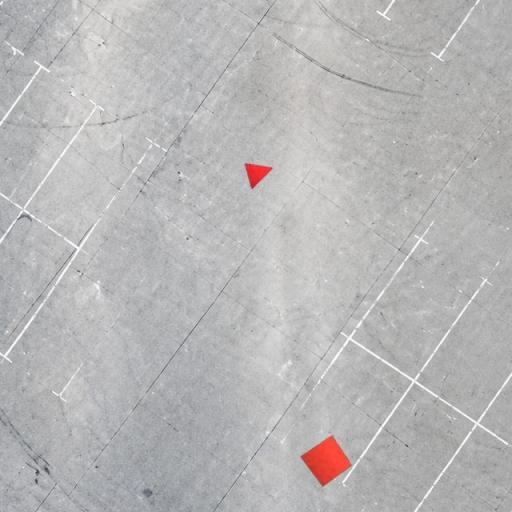RED_SQUARE: (300, 435, 352, 488)
